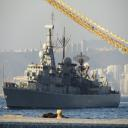Fragata: (3, 25, 123, 112)
